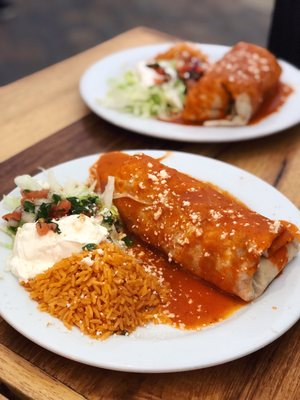curry: (0, 8, 300, 400)
